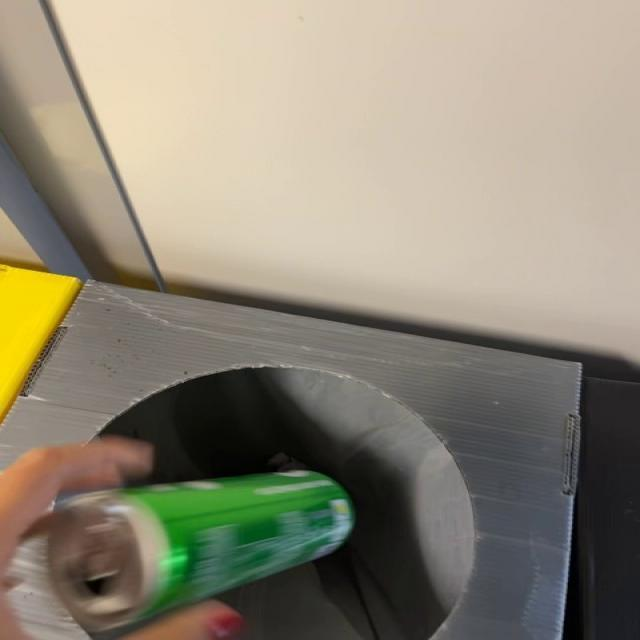Bin: (1, 284, 581, 640)
Metal: (39, 471, 355, 635)
